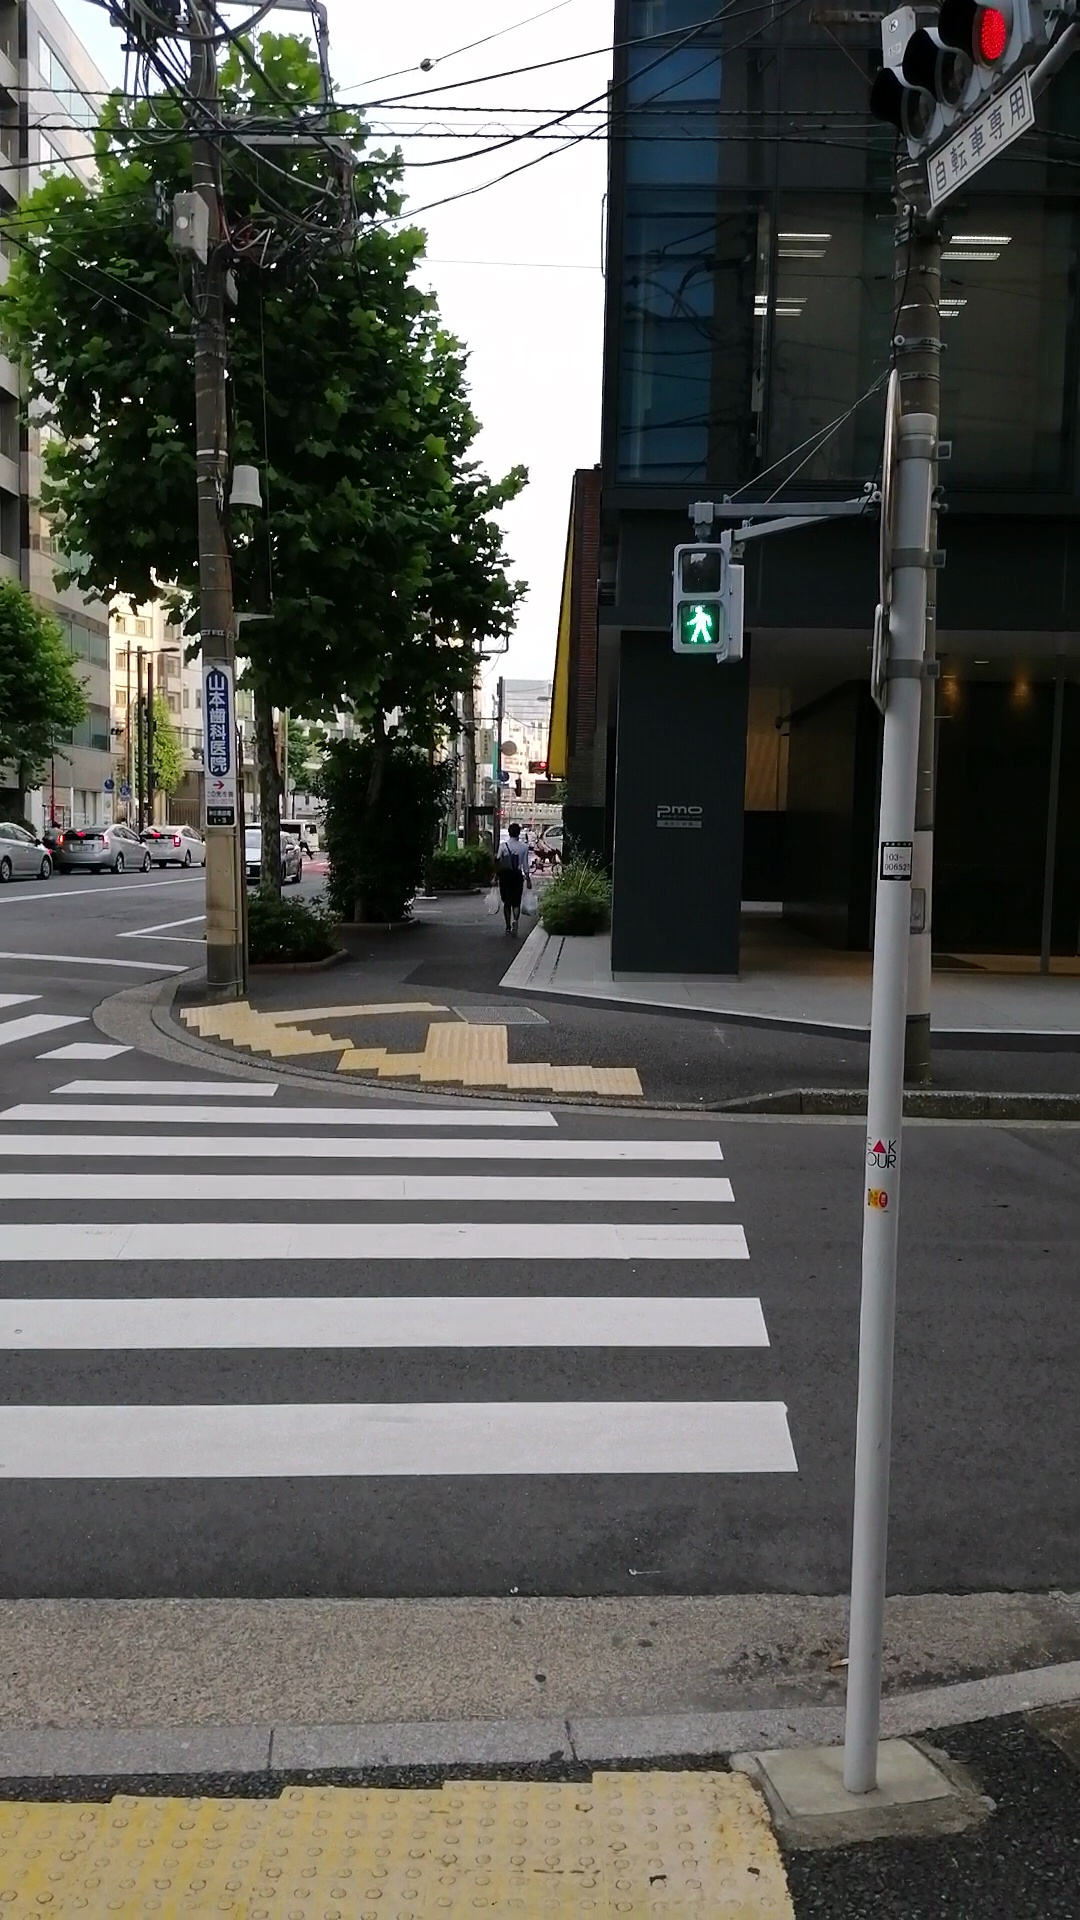green: (673, 543, 731, 654)
